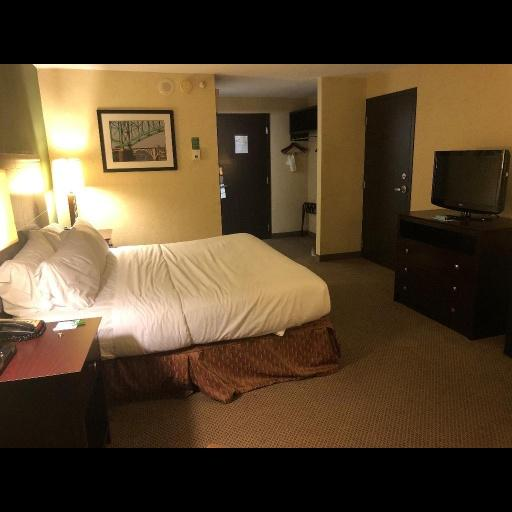clean_bed: (1, 209, 339, 410)
clean_floor: (121, 237, 510, 453)
